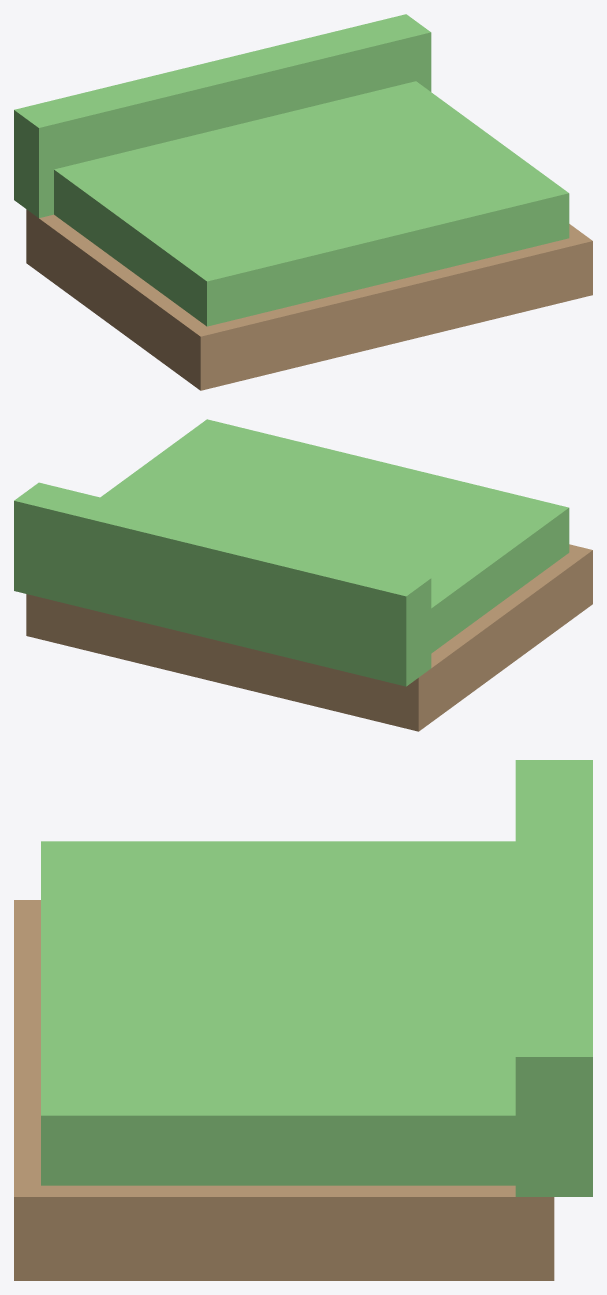
Rendered from Prop_Pet_AMF_Bed_V15.glb.
3 renders of one model, top to bottom at view 1: azimuth 30°, elevation 25°; view 2: azimuth 150°, elevation 25°; view 3: azimuth 270°, elevation 25°, orthographic. The views are drawn at different scales.
Visible parts, largest first — view 1: Prop_Pet_AMF_Bed_V15; view 2: Prop_Pet_AMF_Bed_V15; view 3: Prop_Pet_AMF_Bed_V15.
Boxes of the visible parts, box(x1,y1,x2,y2) form: Prop_Pet_AMF_Bed_V15: box(14, 14, 592, 390); Prop_Pet_AMF_Bed_V15: box(14, 419, 592, 731); Prop_Pet_AMF_Bed_V15: box(14, 760, 592, 1280).
Size of the model in its own units: 0.91 by 0.32 by 0.75.
